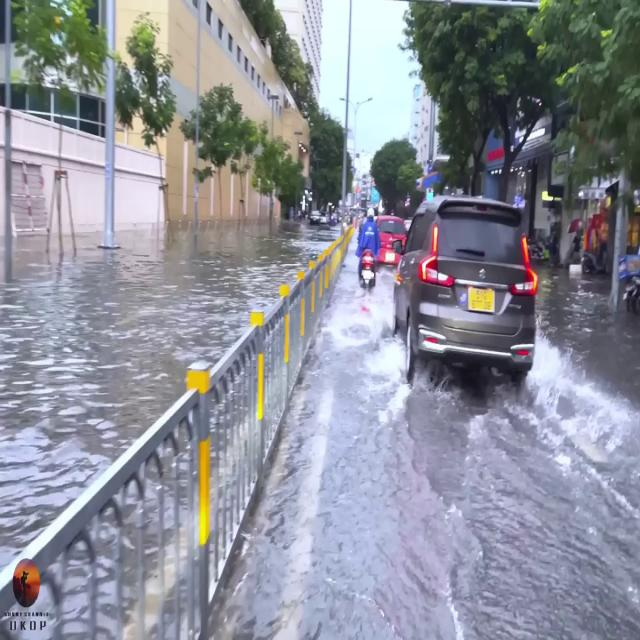bien_vang: (468, 285, 496, 313)
